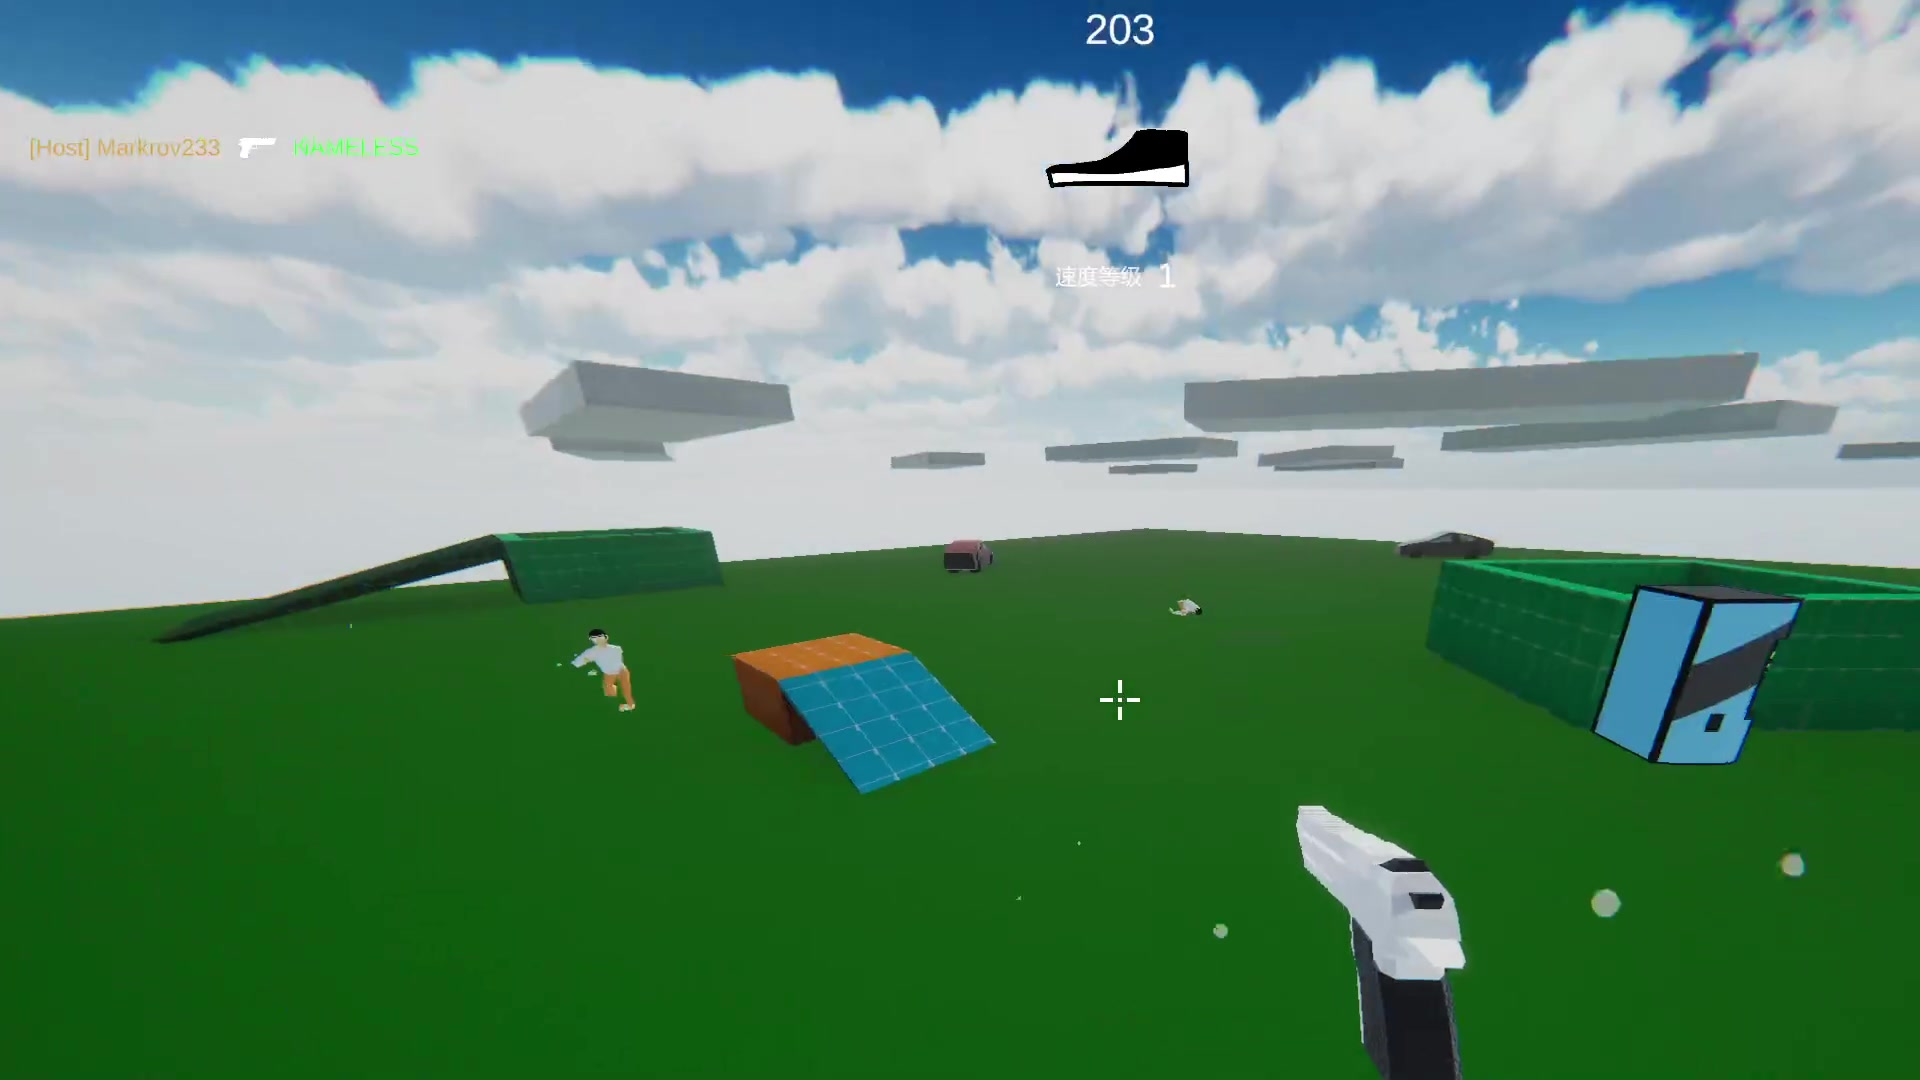human: (580, 627, 640, 720)
